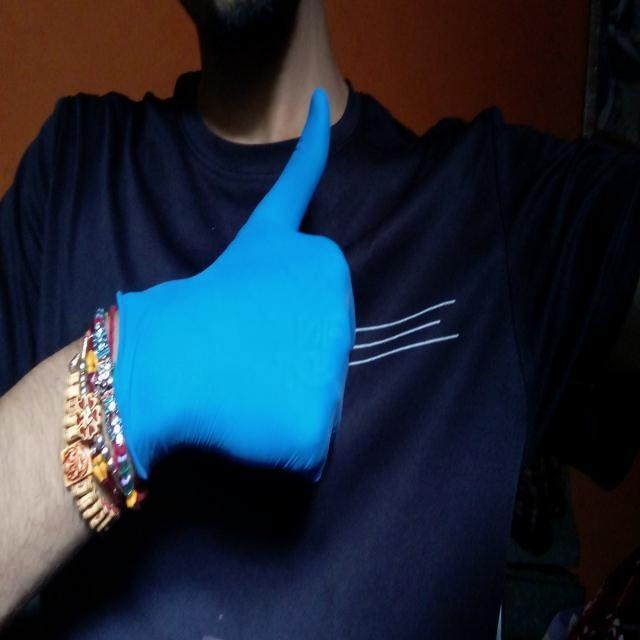Guantes: (142, 92, 342, 493)
